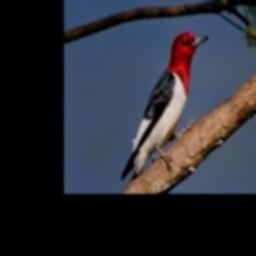Woodpecker: (121, 31, 208, 187)
